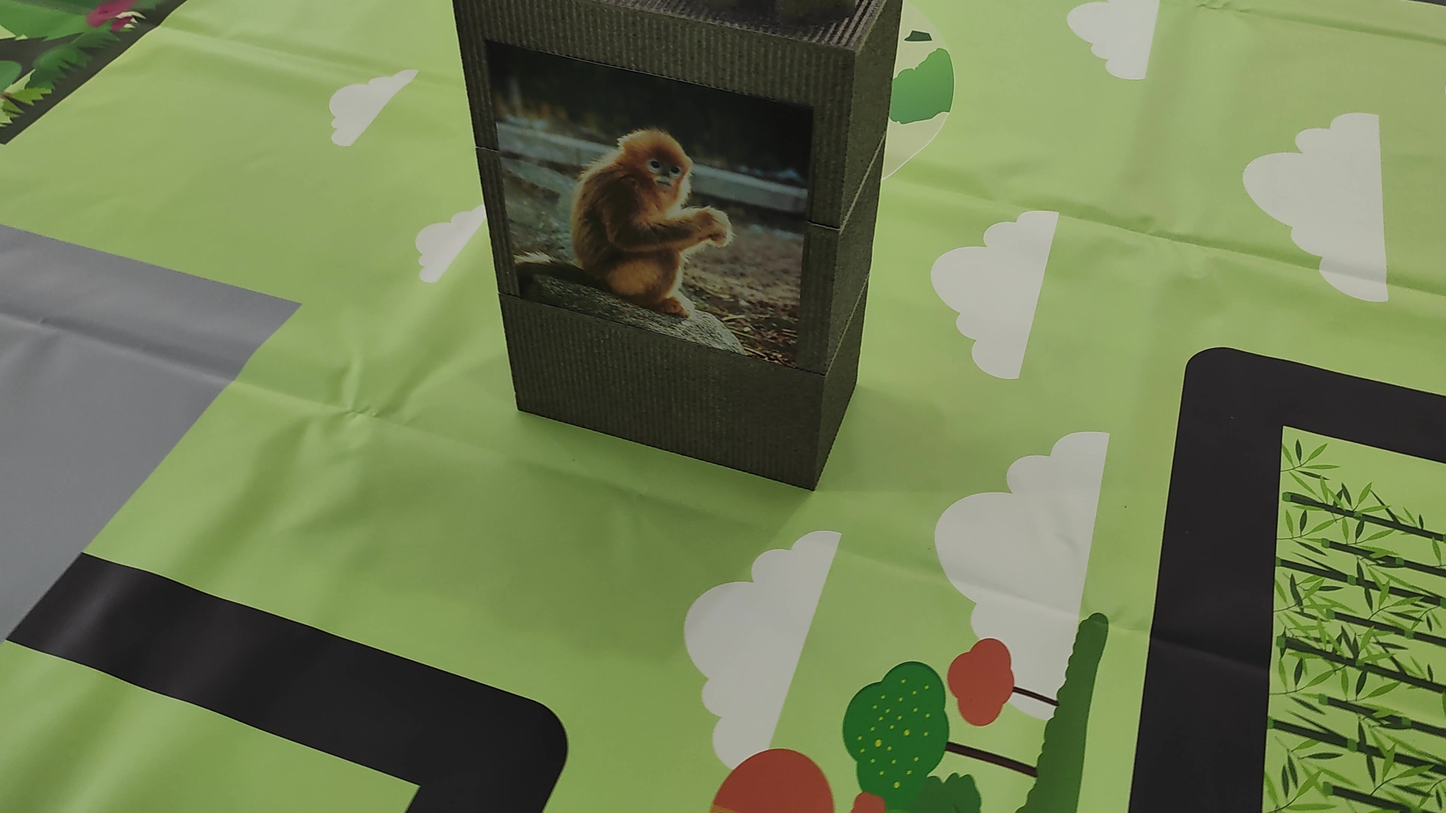monkey: (546, 109, 751, 326)
